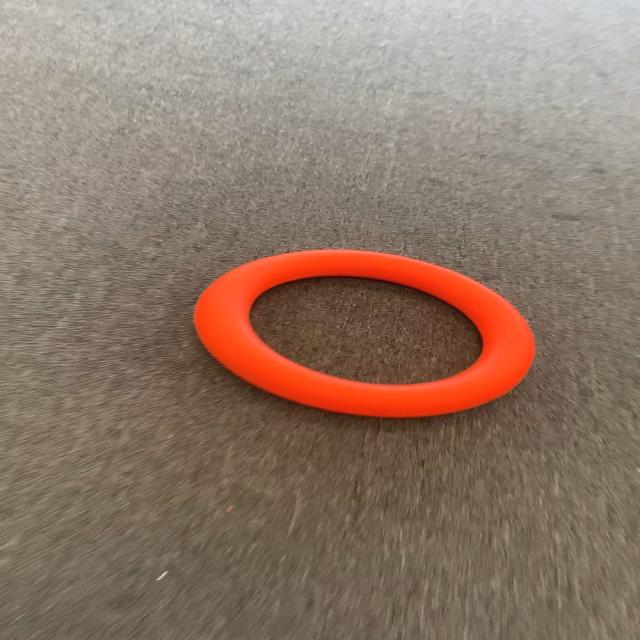notes: (192, 249, 540, 419)
